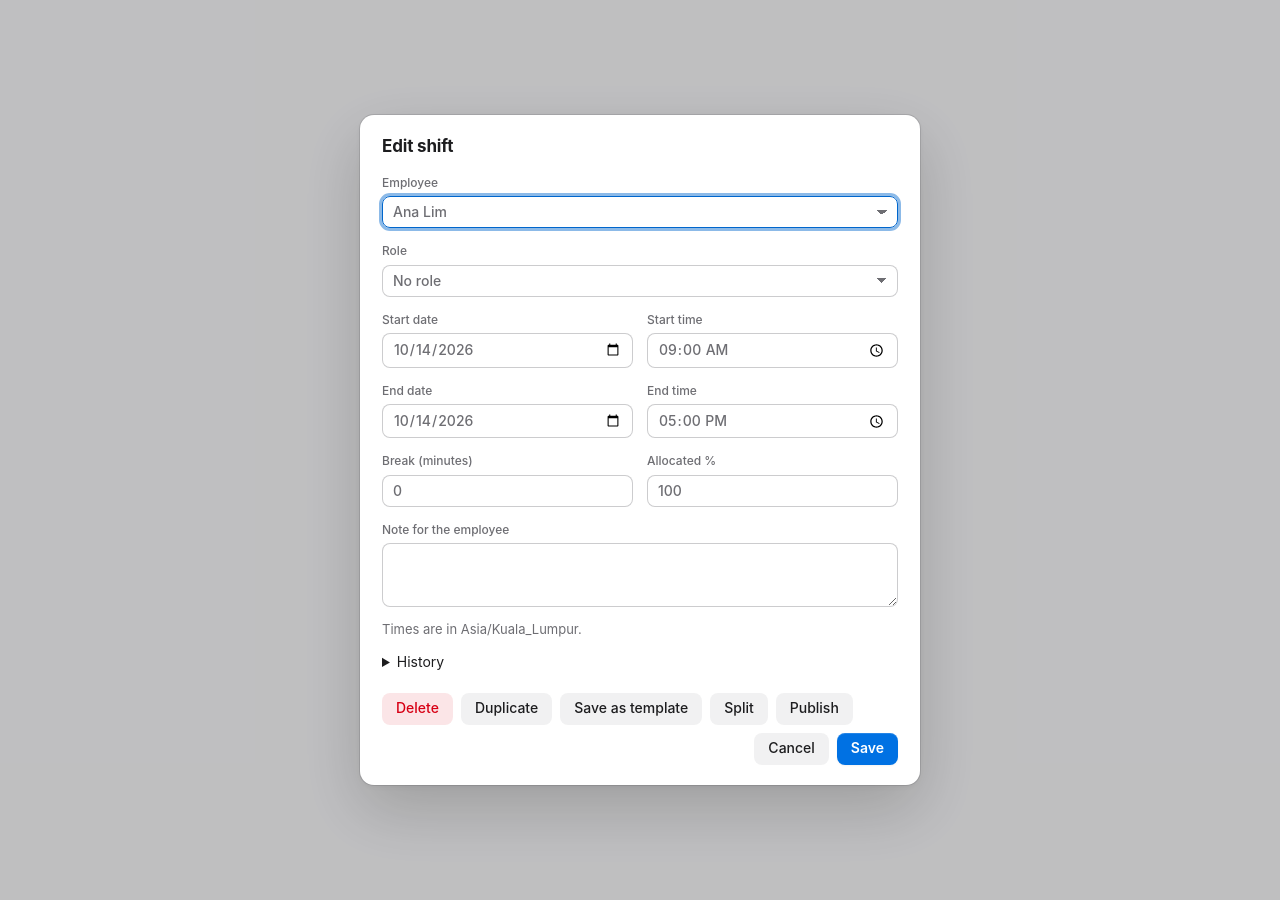
ShiftDialog › publishes nothing when the manager cancels
Step 1. Click the button "Publish" → (814,708), box [776,692,853,724]
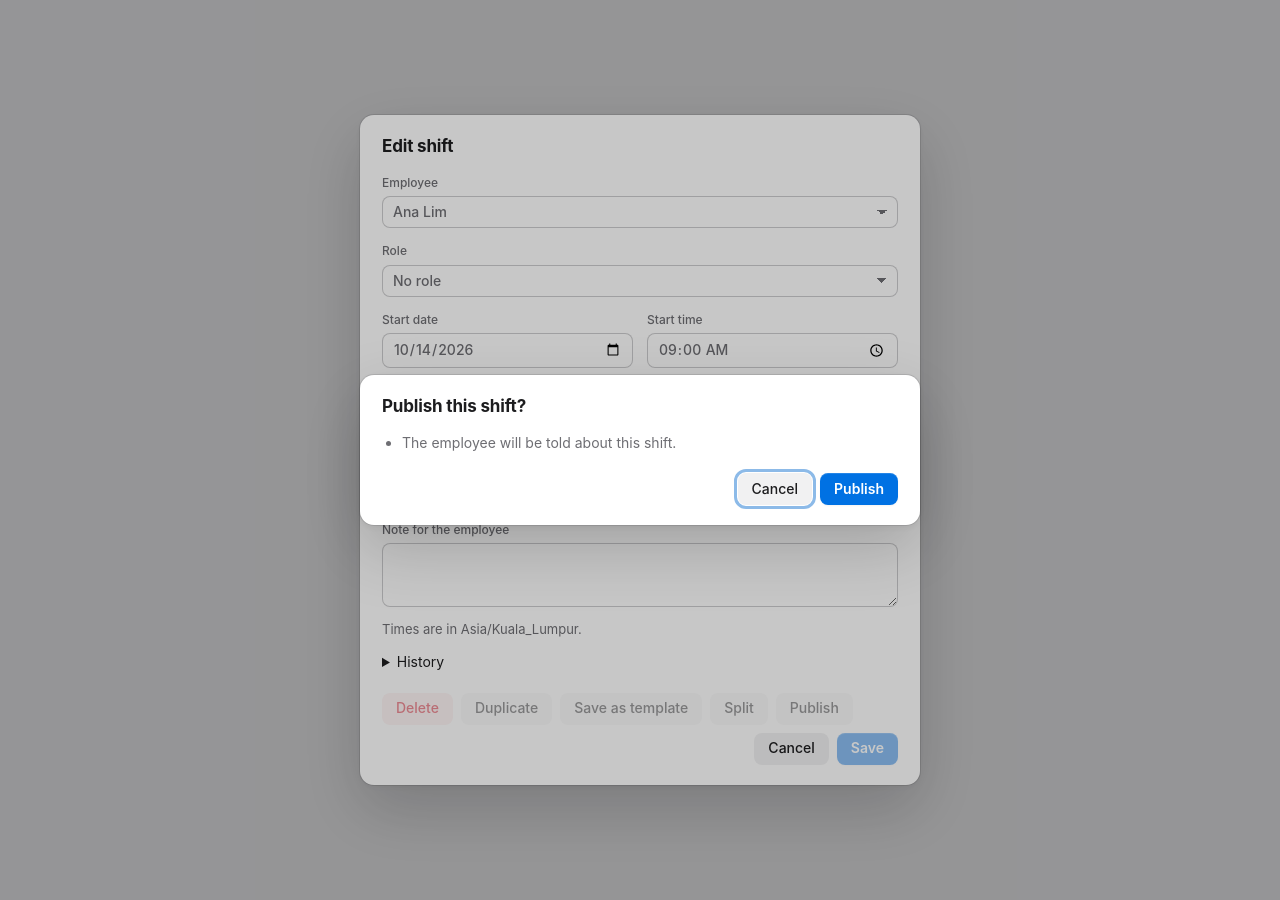
Step 2. Click the button "Cancel" → (775,489), box [738,473,812,505]
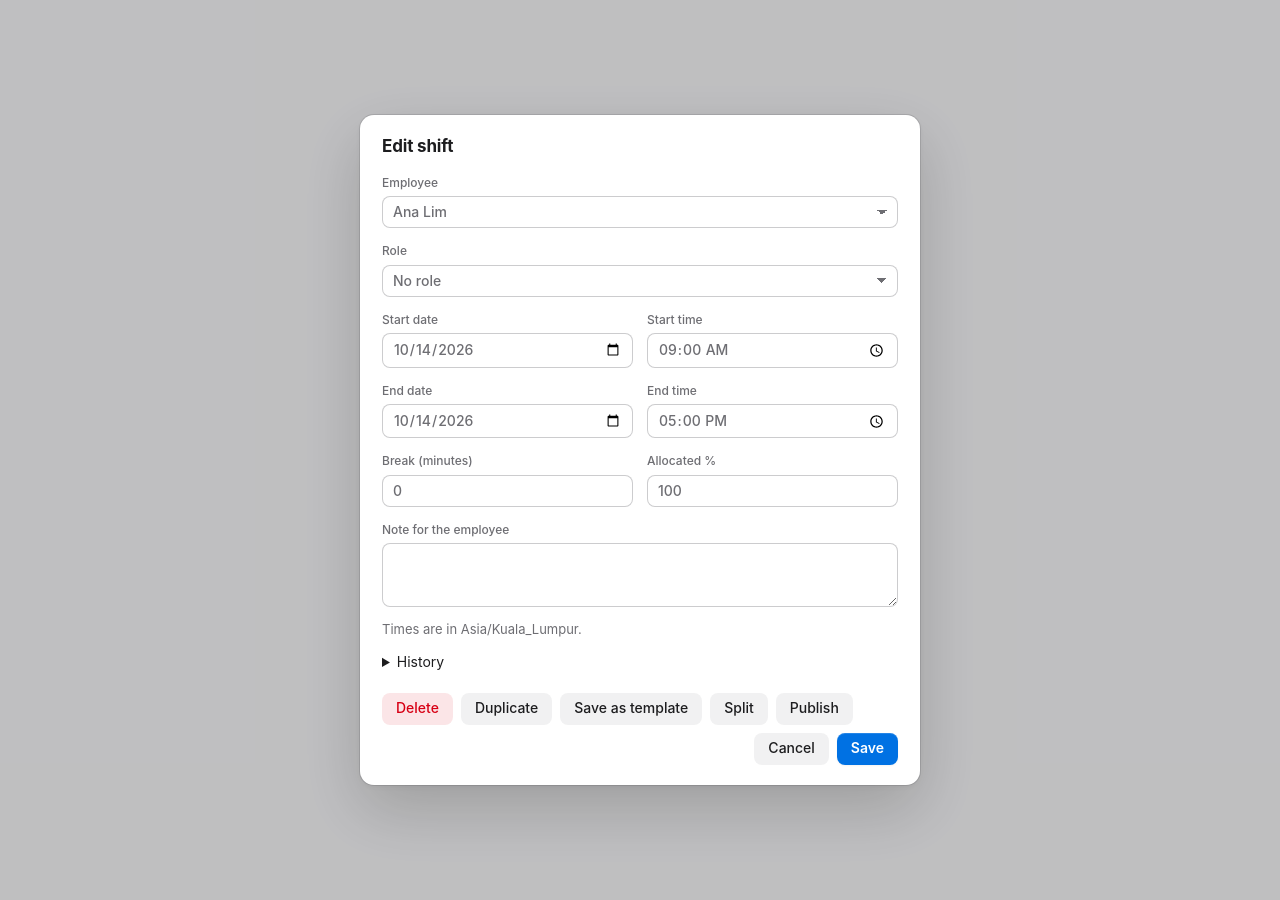
Check: the heading "Publish this shift?" is gone
